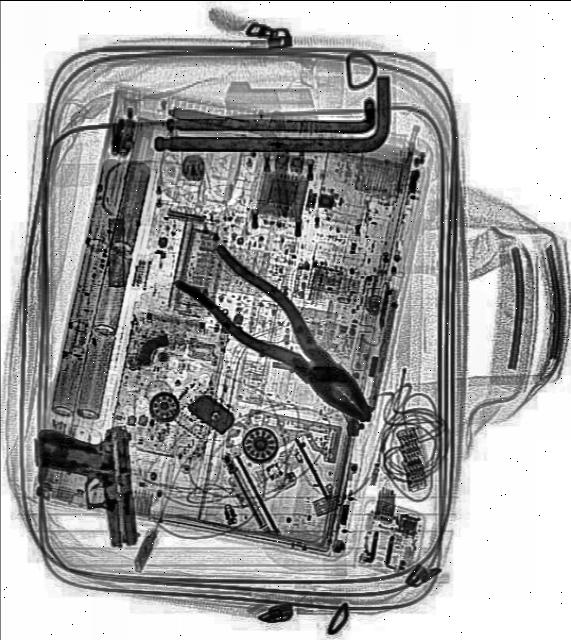Gun: (32, 421, 140, 553)
Pliers: (174, 231, 396, 443)
